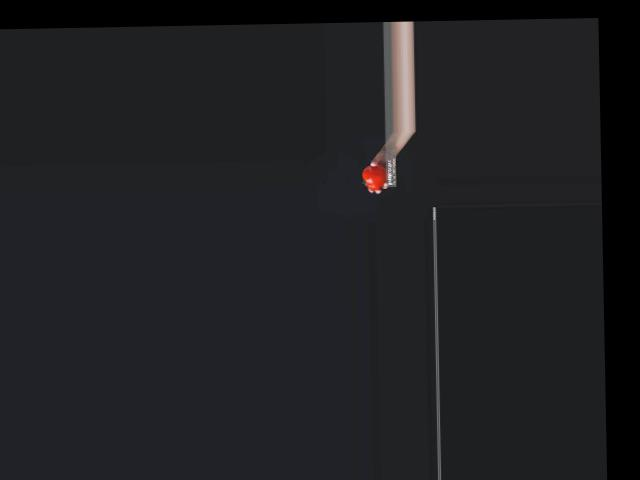tomato: (361, 165, 387, 190)
